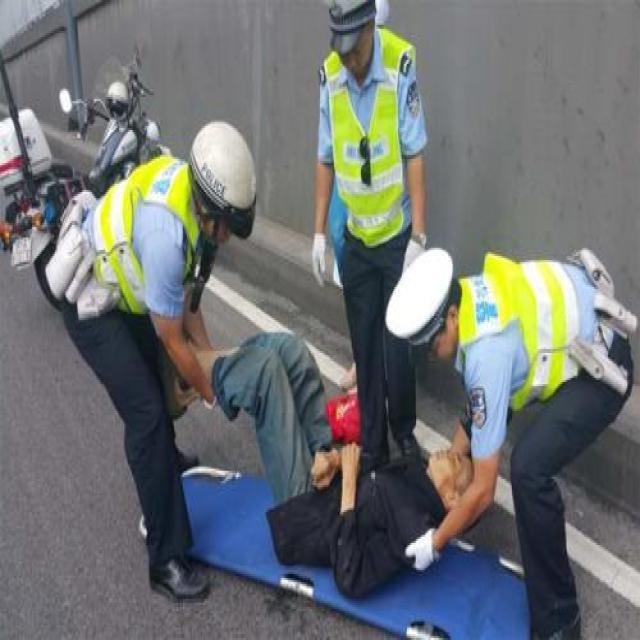fall: (204, 326, 462, 578)
